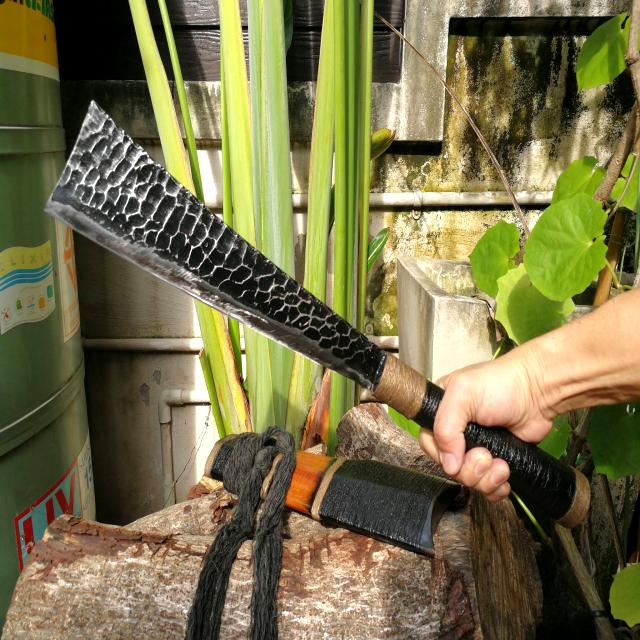eto: (36, 84, 632, 535)
